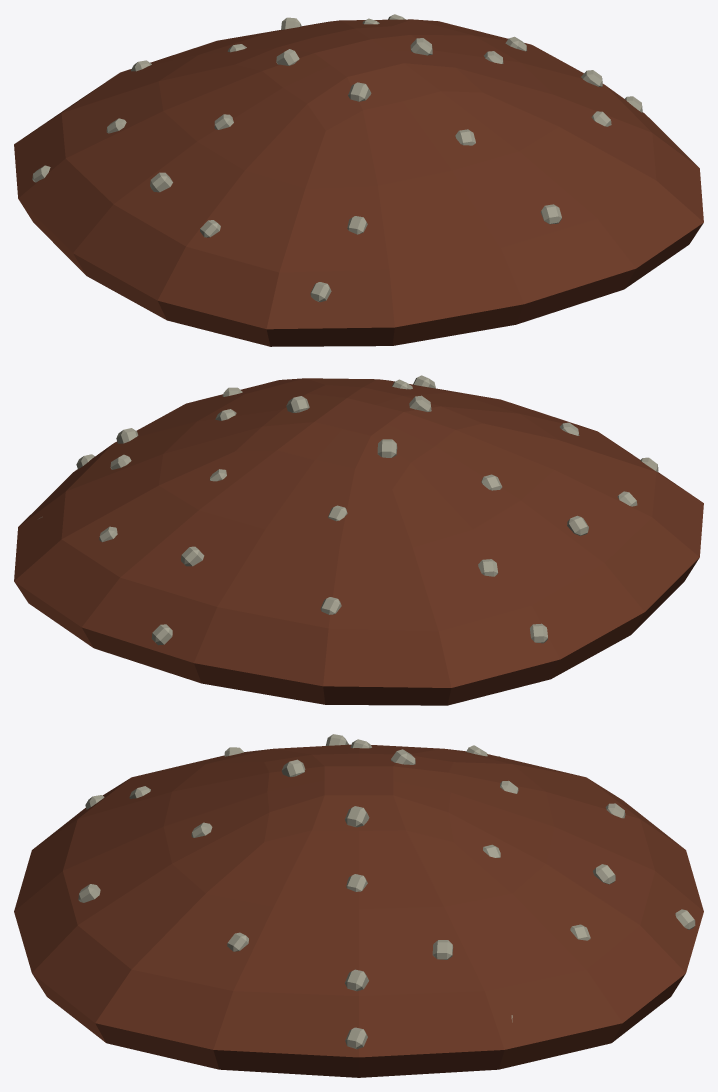
Rendered from mushroom_crop.gltf.
3 renders of one model, top to bottom at view 1: azimuth 30°, elevation 25°; view 2: azimuth 150°, elevation 25°; view 3: azimuth 270°, elevation 25°, orthographic. The views are drawn at different scales.
Parts seen in each view (by area): view 1: mushroom_crop; view 2: mushroom_crop; view 3: mushroom_crop.
Boxes of the visible parts, x1,y1,x2,y2 form: mushroom_crop: (14, 14, 703, 346); mushroom_crop: (14, 375, 703, 705); mushroom_crop: (14, 734, 703, 1077).
Bounding box in the file's own units: 0.4363 × 0.1185 × 0.4363.
1 material, 1 textured.
